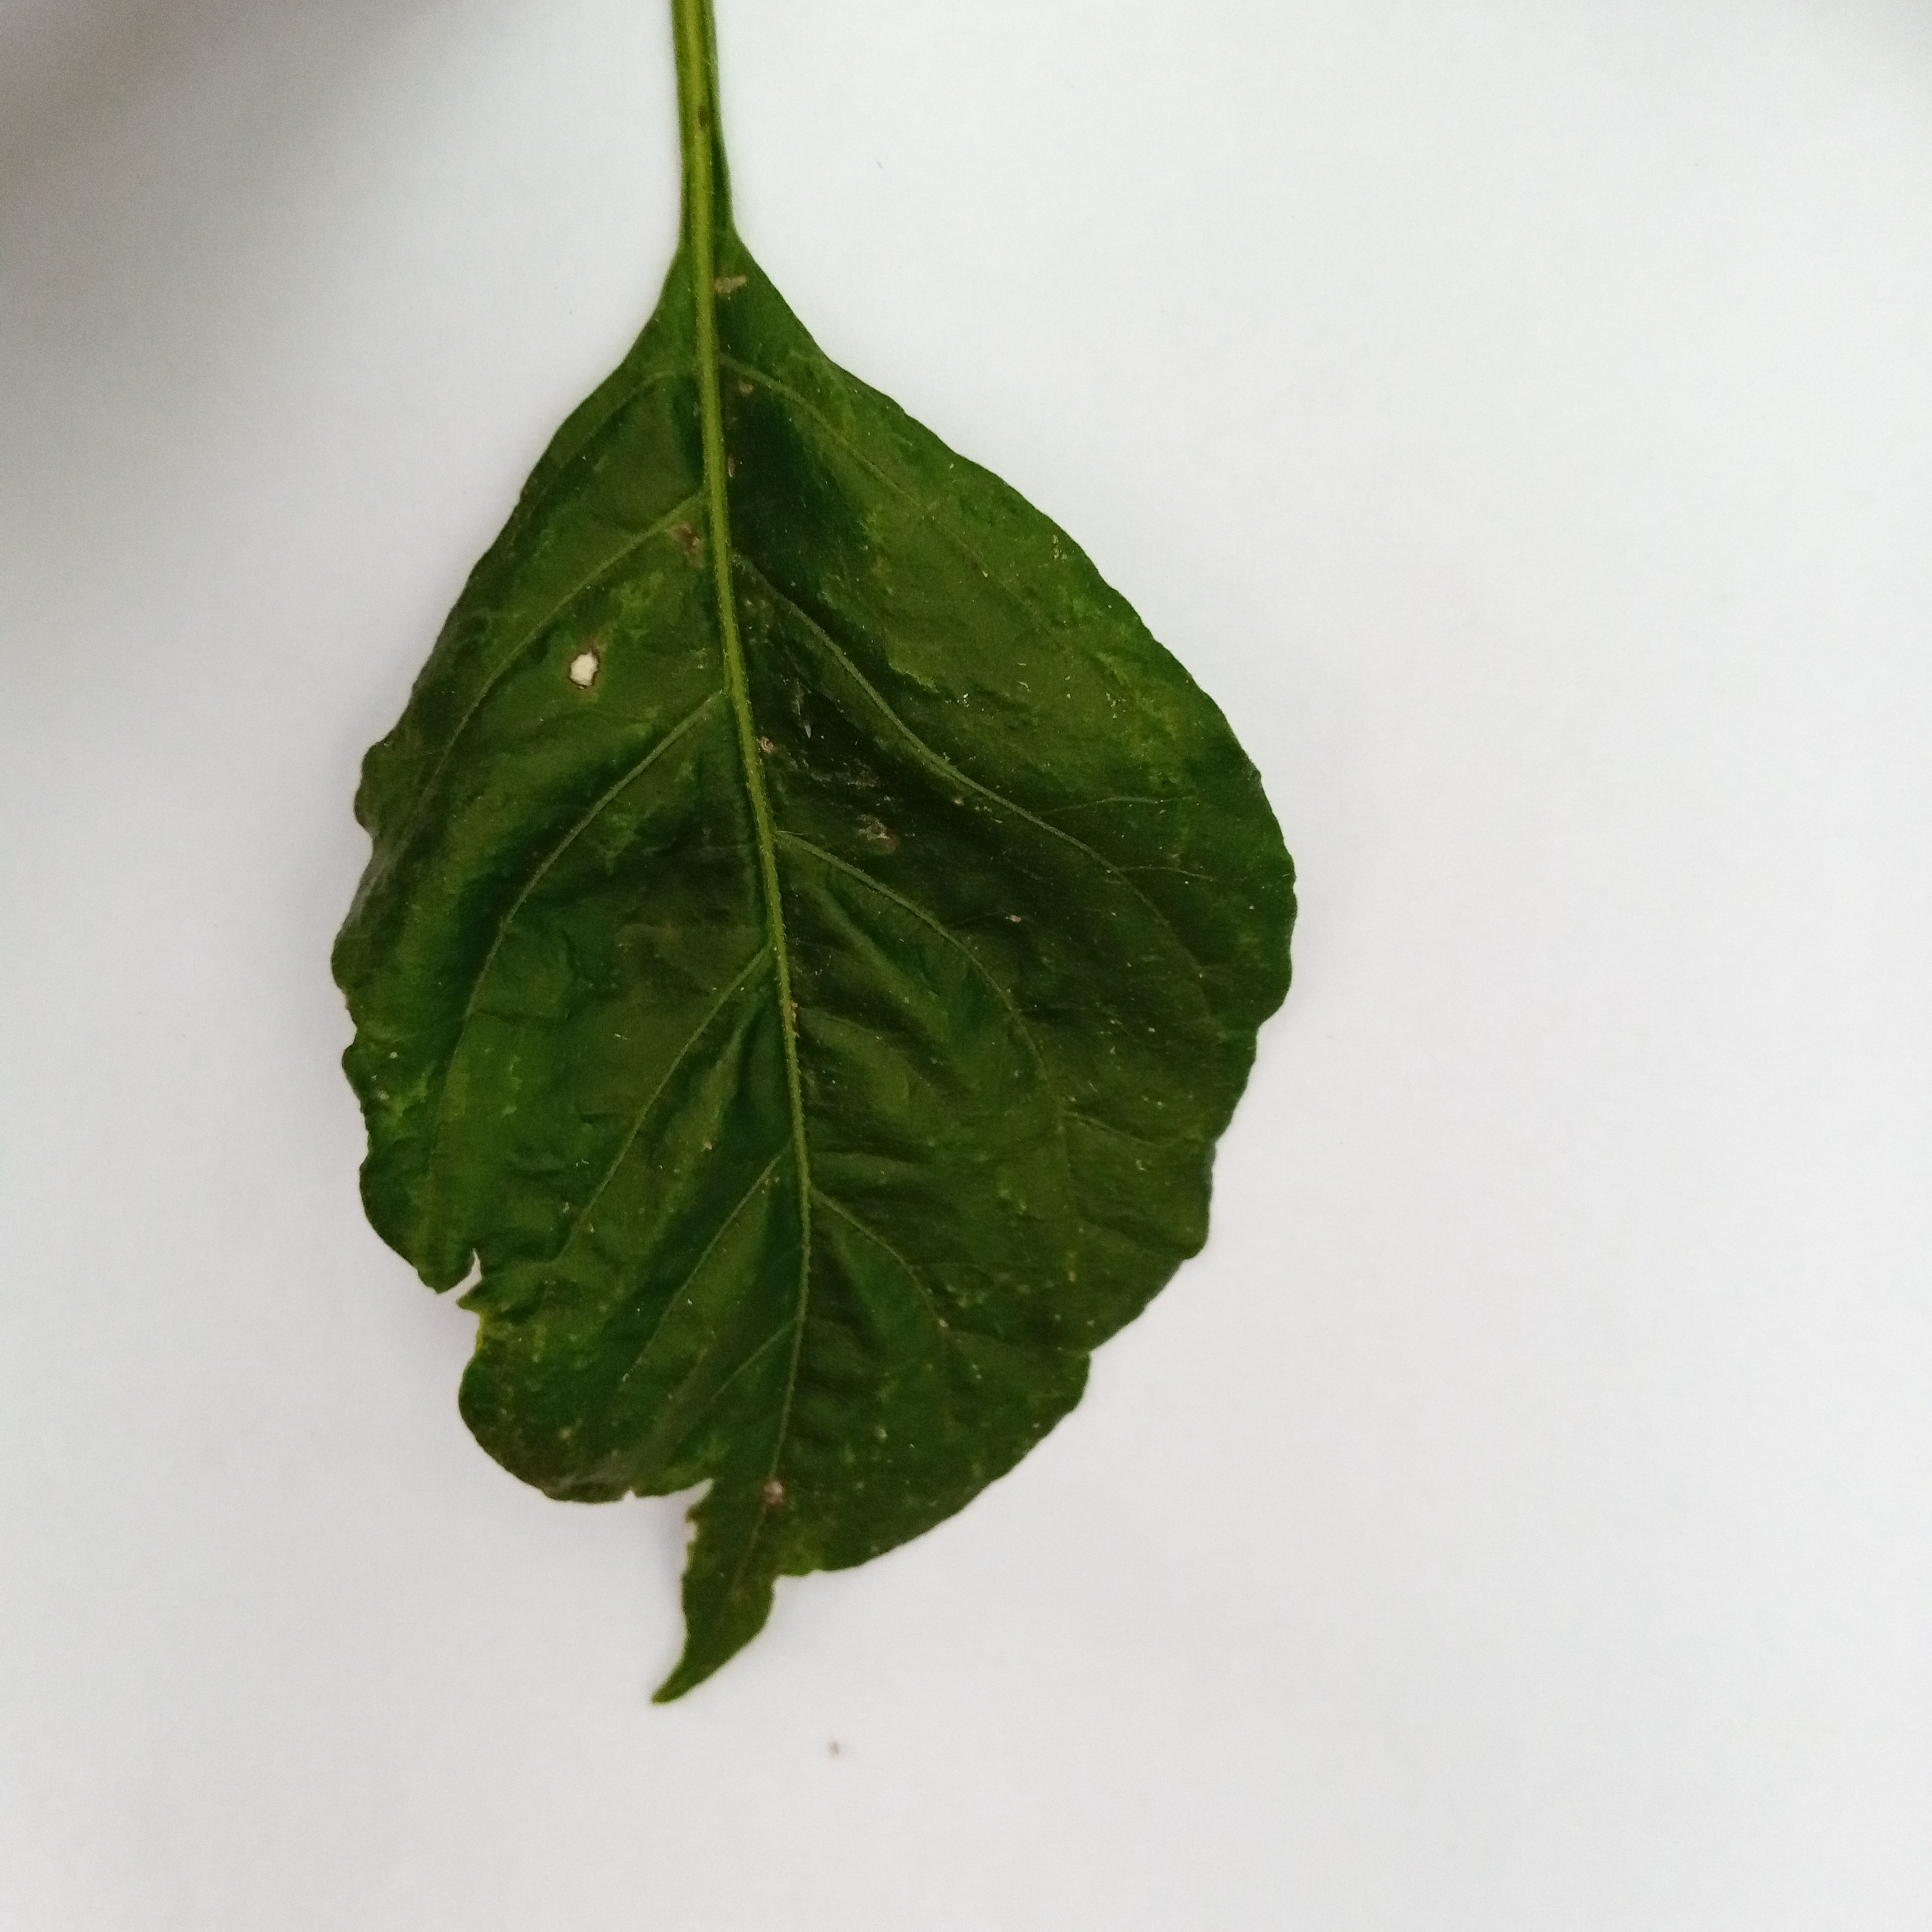Leaf: (203, 191, 1449, 1721)
